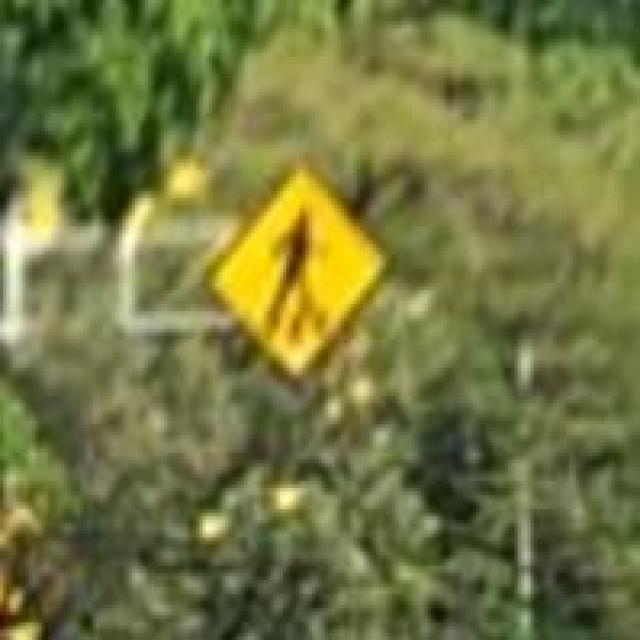ped_zebra_cross: (228, 170, 389, 379)
